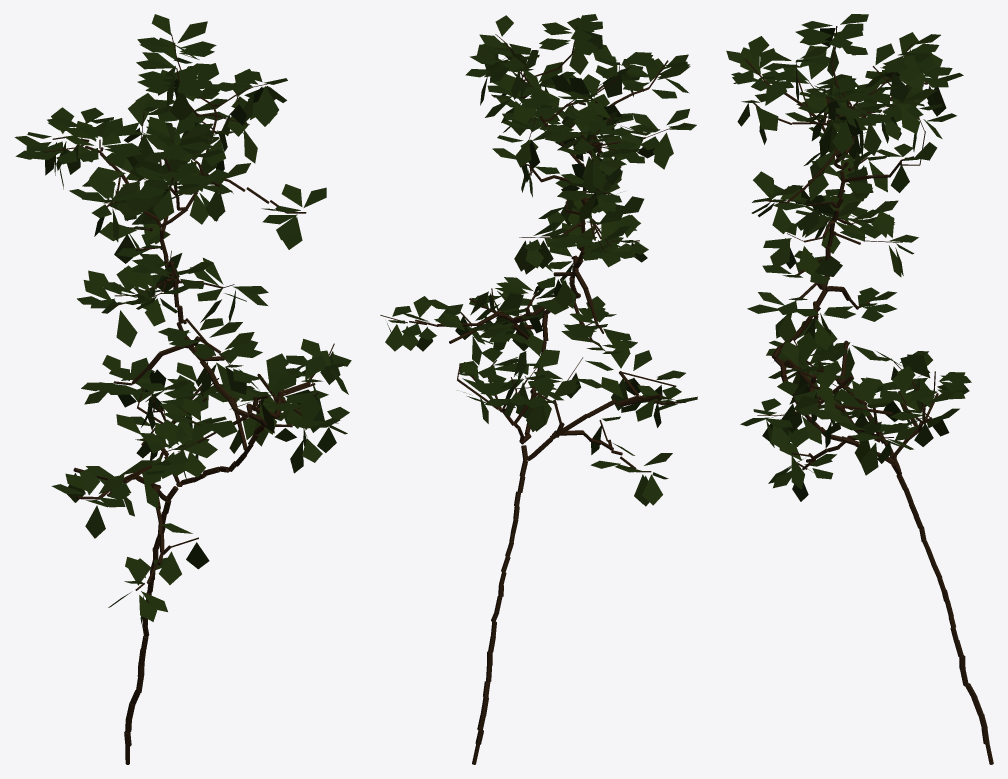
File: tree_391.obj
The picture shows the model from 3 angles, left to right: view 1: azimuth 30°, elevation 25°; view 2: azimuth 150°, elevation 25°; view 3: azimuth 270°, elevation 25°; orthographic projection. The views are drawn at different scales.
Visible parts, largest first — view 1: Leaves, TrunkAndBranches; view 2: Leaves, TrunkAndBranches; view 3: Leaves, TrunkAndBranches.
Part boxes in pixels (left/top/right/bottom): Leaves: left=14, top=14, right=351, bottom=623; TrunkAndBranches: left=44, top=33, right=338, bottom=764; Leaves: left=385, top=14, right=697, bottom=506; TrunkAndBranches: left=380, top=26, right=686, bottom=764; Leaves: left=726, top=14, right=971, bottom=501; TrunkAndBranches: left=745, top=26, right=993, bottom=764.
Bounding box in the file's own units: 2.78 × 6.44 × 2.14.
